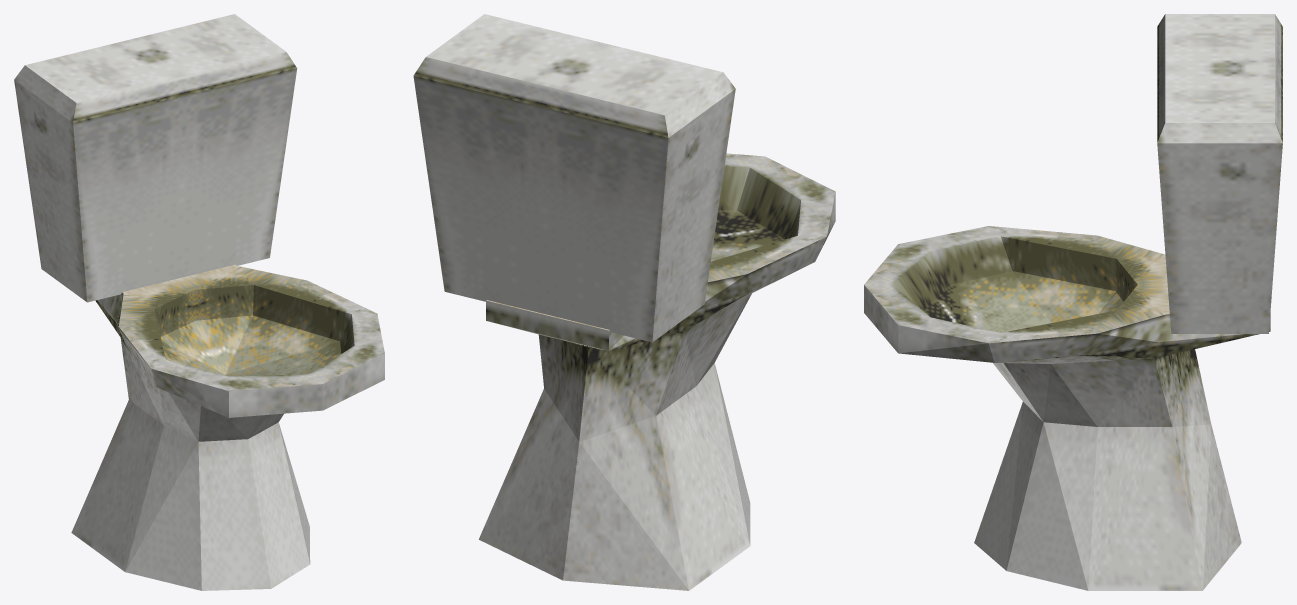
File: toilet.fbx
3 views of the same model, side by side, from view 1: azimuth 30°, elevation 25°; view 2: azimuth 150°, elevation 25°; view 3: azimuth 270°, elevation 25° (orthographic). The views are drawn at different scales.
Parts seen in each view (by area): view 1: Toilet; view 2: Toilet; view 3: Toilet.
Boxes of the visible parts, bbox=[...] form: Toilet: bbox=[14, 14, 384, 590]; Toilet: bbox=[413, 14, 835, 590]; Toilet: bbox=[864, 14, 1282, 590].
Size of the model in its own units: 61.46 by 116 by 92.69.
Materials: 1 (1 with a texture image).
